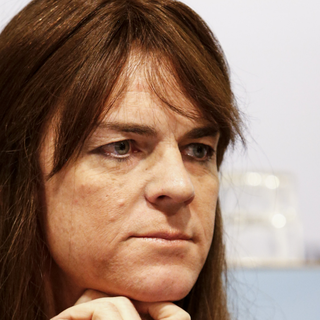eye: (95, 138, 145, 163), (181, 136, 221, 165)
